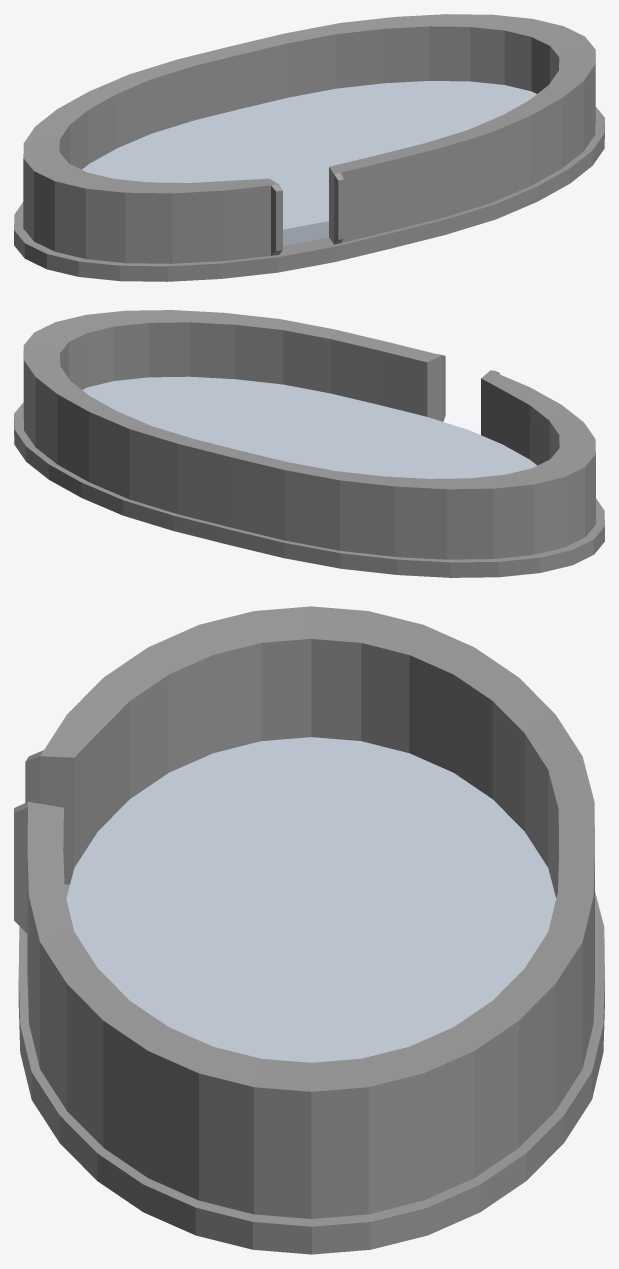
File: icelink.fbx
3 renders of one model, top to bottom at view 1: azimuth 30°, elevation 25°; view 2: azimuth 150°, elevation 25°; view 3: azimuth 270°, elevation 25°, orthographic. The views are drawn at different scales.
Parts seen in each view (by area): view 1: Circle, Circle.001; view 2: Circle, Circle.001; view 3: Circle, Circle.001.
Part boxes in pixels (x1,y1,x2,y2): Circle: (14, 14, 604, 281); Circle.001: (82, 81, 536, 246); Circle: (14, 310, 604, 577); Circle.001: (82, 376, 536, 478); Circle: (14, 606, 604, 1254); Circle.001: (66, 737, 556, 1062).
Size of the model in its own units: 78.43 by 11.28 by 39.07.
